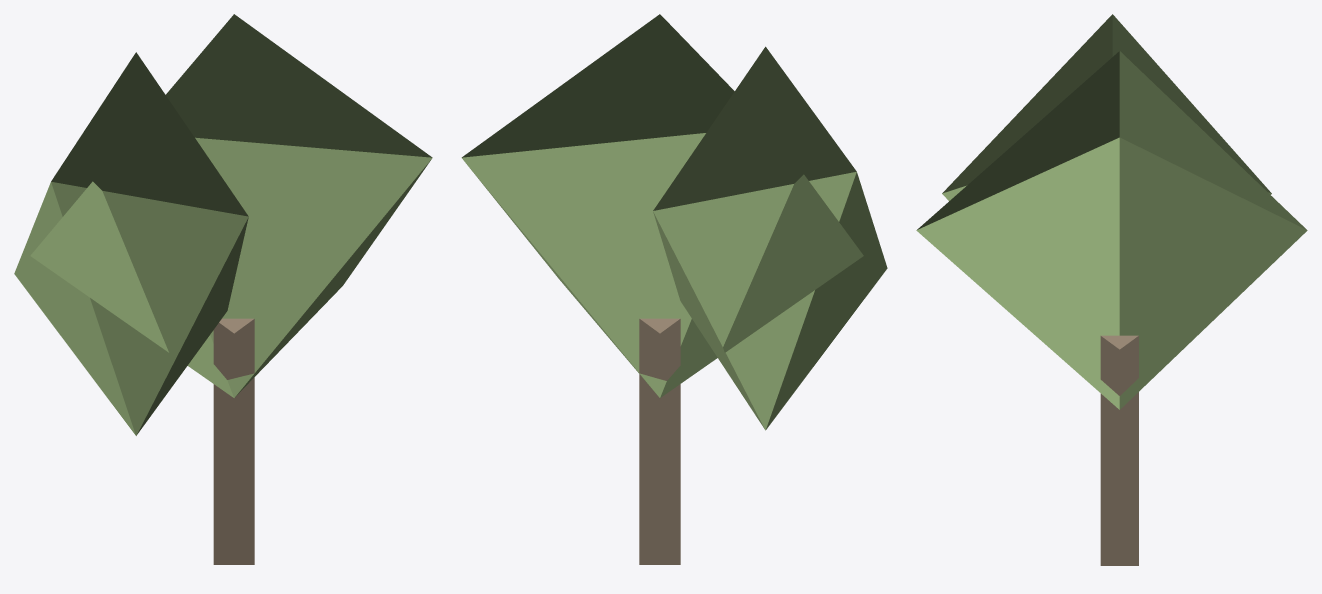
File: sprout.temp.shrub_seedling__summer.glb
3 renders of one model, left to right at view 1: azimuth 30°, elevation 25°; view 2: azimuth 150°, elevation 25°; view 3: azimuth 270°, elevation 25°, orthographic. The views are drawn at different scales.
Parts seen in each view (by area): view 1: sprout.temp.shrub_seedling__summer; view 2: sprout.temp.shrub_seedling__summer; view 3: sprout.temp.shrub_seedling__summer.
Part boxes in pixels (x1,y1,x2,y2): sprout.temp.shrub_seedling__summer: (14,14,432,564); sprout.temp.shrub_seedling__summer: (461,14,887,564); sprout.temp.shrub_seedling__summer: (916,14,1307,565).
Bounding box in the file's own units: 0.5383 × 0.677 × 0.462.
